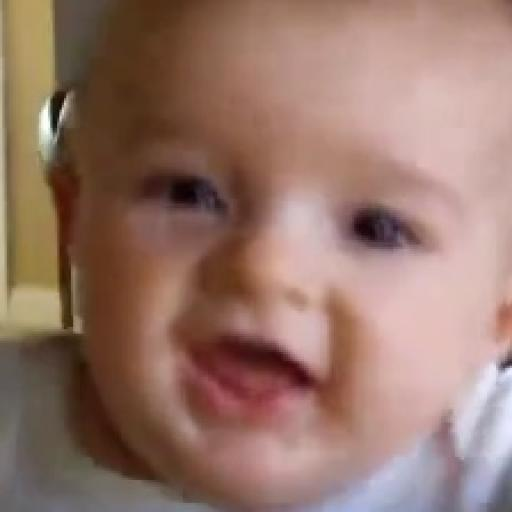Autism: (32, 13, 512, 512)
